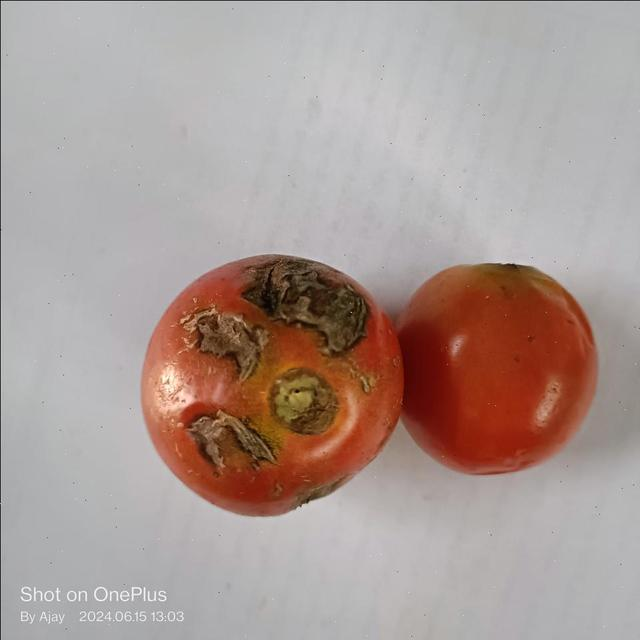Bacterial Spot Fruit: (46, 33, 210, 292)
